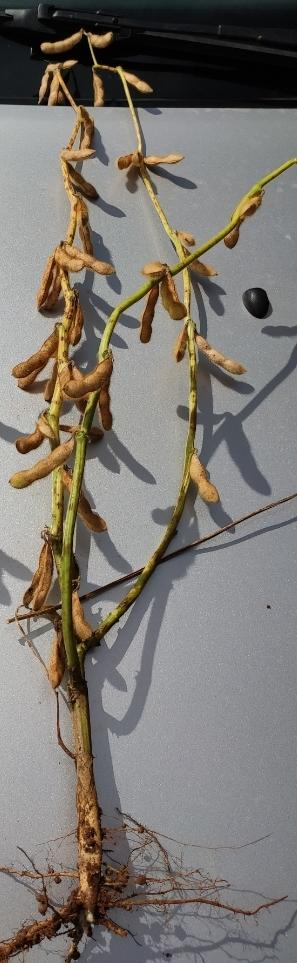soja: (8, 437, 74, 489), (61, 467, 112, 533), (67, 355, 129, 402), (12, 325, 67, 377), (189, 329, 247, 377), (46, 535, 93, 584), (225, 195, 264, 252), (65, 237, 121, 276), (59, 165, 113, 201), (186, 450, 221, 503), (20, 538, 46, 609), (8, 361, 67, 390), (32, 545, 60, 600), (34, 246, 57, 310), (43, 627, 67, 688), (158, 275, 189, 321), (40, 25, 87, 55), (14, 412, 47, 453), (74, 201, 97, 259), (70, 591, 96, 639), (115, 65, 155, 94), (142, 281, 160, 344), (98, 384, 117, 431), (49, 262, 64, 313), (89, 74, 107, 113), (174, 322, 190, 362), (143, 152, 185, 167), (85, 30, 115, 48), (138, 260, 167, 278), (115, 151, 139, 172), (38, 59, 48, 105), (58, 147, 96, 159), (81, 119, 96, 148), (51, 69, 61, 104), (60, 57, 79, 69)
